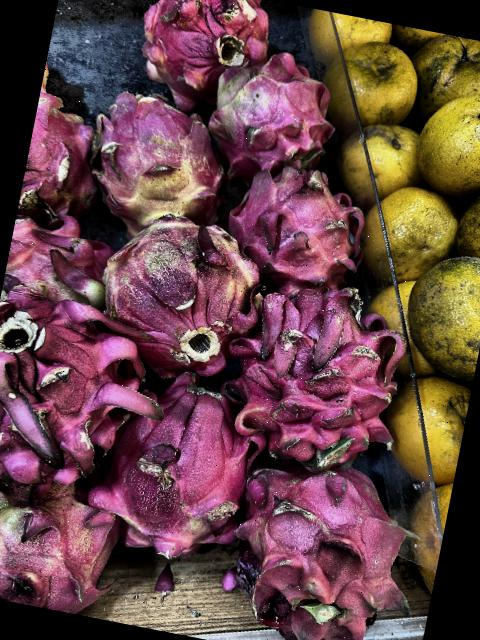buah-naga-belum-matang: (83, 200, 272, 378), (72, 77, 241, 237), (0, 474, 126, 619)
buah-naga-matang: (212, 436, 440, 640), (210, 270, 428, 478), (0, 267, 172, 505), (96, 370, 267, 570), (211, 154, 378, 298), (195, 48, 344, 174), (17, 80, 116, 226), (129, 0, 275, 91), (2, 204, 118, 307)
